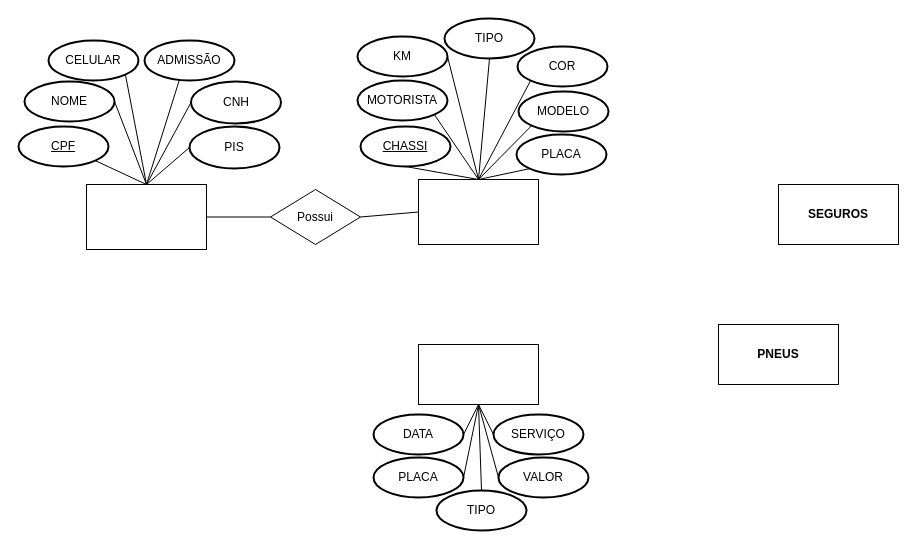
Image size: 916x548. Some labels were removed from this diagram. Each missing label, with the box of its shape:
MANUTENÇÃO: (418, 344, 538, 404)
MOTORISTAS: (86, 184, 206, 250)
VEÍCULOS: (418, 178, 538, 244)
